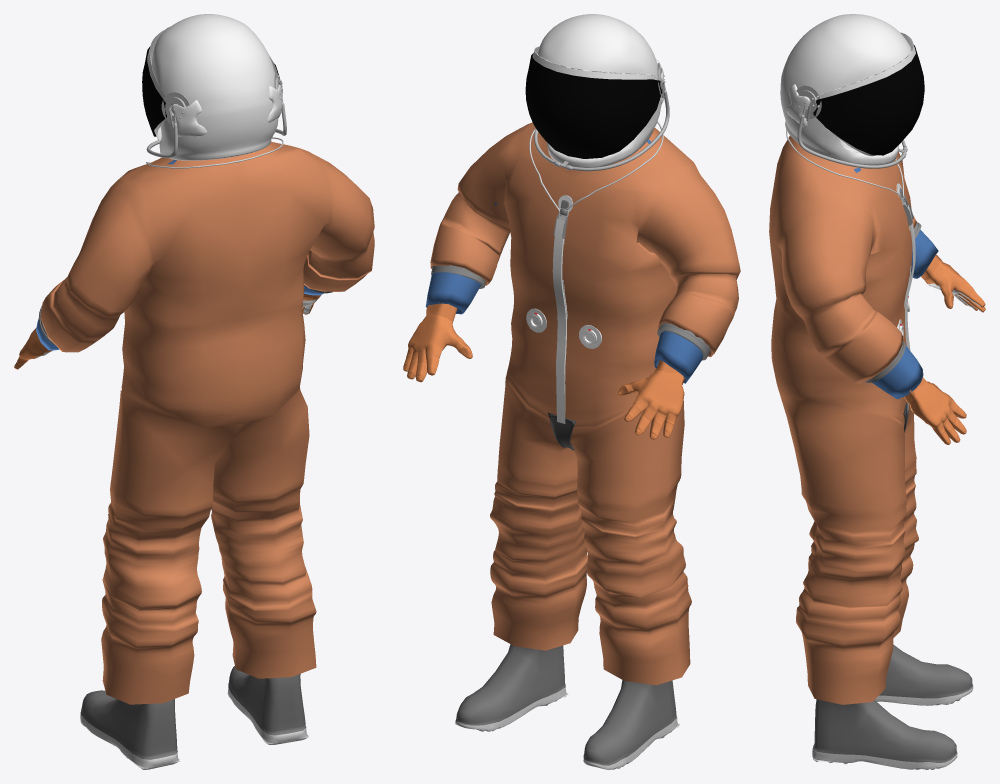
Rendered from acesjustforroomshow.gltf.
3 renders of one model, left to right at view 1: azimuth 30°, elevation 25°; view 2: azimuth 150°, elevation 25°; view 3: azimuth 270°, elevation 25°, orthographic. The views are drawn at different scales.
Visible parts, largest first — view 1: node-0; view 2: node-0; view 3: node-0.
Boxes of the visible parts, x1,y1,x2,y2 form: node-0: (14, 14, 374, 769); node-0: (403, 14, 740, 769); node-0: (769, 14, 985, 769).
Size of the model in its own units: 0.8872 by 2 by 0.5549.
